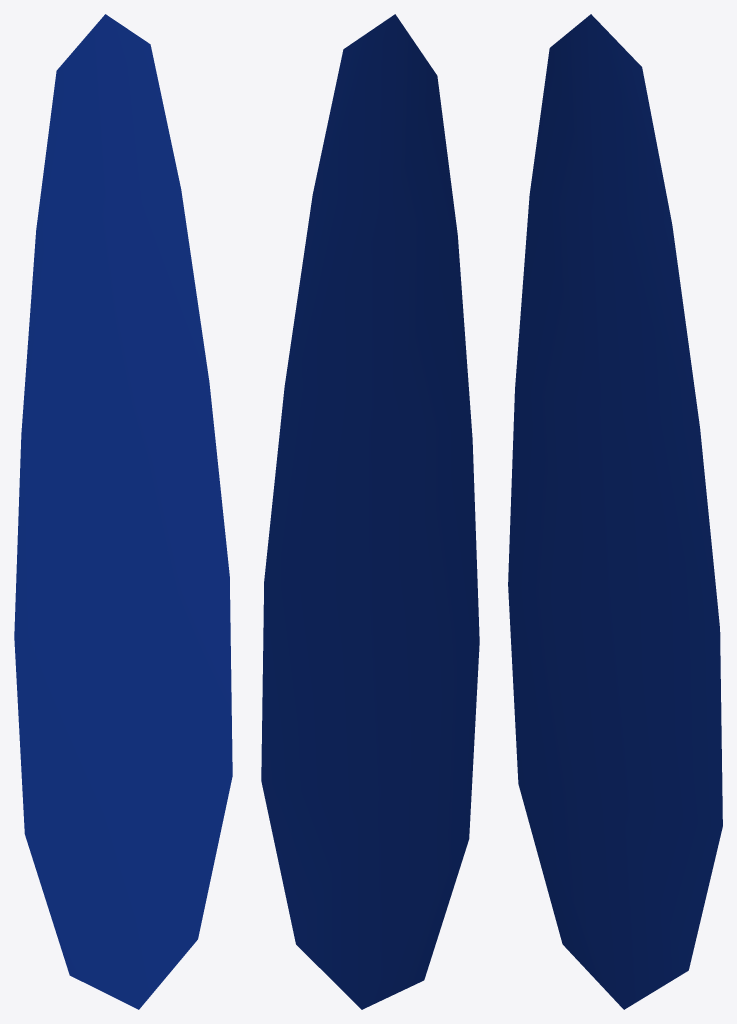
File: budgie_feather_flight_primary_005.obj
The picture shows the model from 3 angles, left to right: view 1: azimuth 30°, elevation 25°; view 2: azimuth 150°, elevation 25°; view 3: azimuth 330°, elevation 25°; orthographic projection.
Parts seen in each view (by area): view 1: feather_flight_primary_005; view 2: feather_flight_primary_005; view 3: feather_flight_primary_005.
Part boxes in pixels (x1,y1,x2,y2): feather_flight_primary_005: (14, 14, 232, 1009); feather_flight_primary_005: (261, 14, 479, 1009); feather_flight_primary_005: (508, 14, 722, 1009).
Bounding box in the file's own units: 0.012 × 0.0526 × 0.000322.
